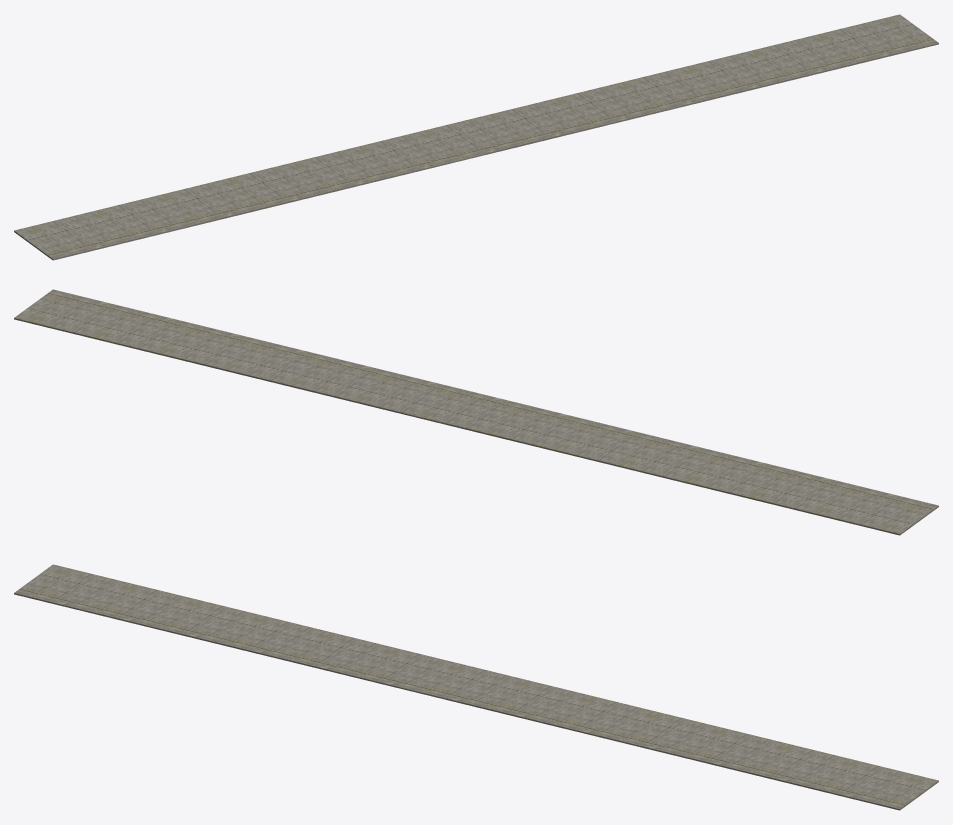
File: bodo2.FBX
The picture shows the model from 3 angles, top to bottom: view 1: azimuth 30°, elevation 25°; view 2: azimuth 150°, elevation 25°; view 3: azimuth 330°, elevation 25°; orthographic projection.
Visible parts, largest first — view 1: Plane001; view 2: Plane001; view 3: Plane001.
Part boxes in pixels (x1,y1,x2,y2): Plane001: (14,14,938,260); Plane001: (14,289,938,535); Plane001: (14,564,938,810).
Size of the model in its own units: 804 by 1.26 by 61.34.
1 material, 1 textured.
